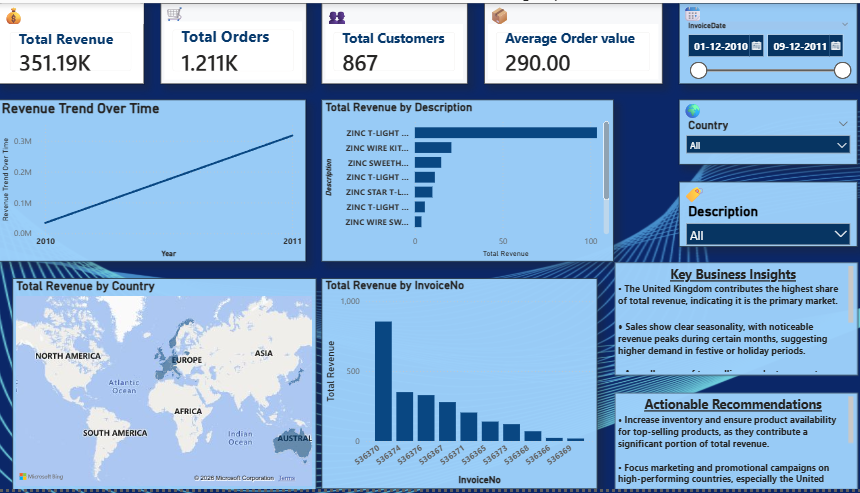

Layout of this report page (visuals, bound fields, positions):
{"tool":"powerbi","page":{"name":"Sales Performance Dashboard","canvas":[1280,720],"ordinal":0},"visuals":[{"type":"cardVisual","fields":{"Data":["online_retail.Total Revenue"]},"box":[48,0,208,112],"z":0},{"type":"cardVisual","fields":{"Data":["online_retail.Total Orders"]},"box":[272,0,192,112],"z":1000},{"type":"cardVisual","fields":{"Data":["online_retail.Total Customers"]},"box":[496,0,192,112],"z":2000},{"type":"cardVisual","fields":{"Data":["online_retail.Average Order value"]},"box":[704,0,208,112],"z":3000},{"type":"lineChart","title":"Revenue Trend Over Time","fields":{"Y":["online_retail.Total Revenue"],"Category":["online_retail.InvoiceDate.Variation.Date Hierarchy.Year","online_retail.InvoiceDate.Variation.Date Hierarchy.Quarter","online_retail.InvoiceDate.Variation.Date Hierarchy.Month","online_retail.InvoiceDate.Variation.Date Hierarchy.Day"]},"box":[22.9,131.4,448.6,254.3],"z":4000},{"type":"clusteredBarChart","fields":{"Category":["online_retail.Description"],"Y":["online_retail.Total Revenue"]},"box":[483,133.3,421.2,254.6],"z":5000},{"type":"filledMap","fields":{"Category":["online_retail.Country"]},"box":[21.4,406.9,449.7,314.1],"z":6000},{"type":"slicer","title":"📅","fields":{"Values":["online_retail.InvoiceDate","online_retail.Country"]},"box":[972.7,0,275,145.5],"z":7000},{"type":"slicer","title":"🏷️","fields":{"Values":["online_retail.Description"]},"box":[972.4,212.1,274.1,123.9],"z":8000},{"type":"textbox","box":[493.3,407.5,402.8,312.2],"z":9000},{"type":"textbox","box":[915.2,407.5,355.1,312.2],"z":10000}]}

Visuals, with their boxes in screenshot pixels (x1, y1, x2, y2), scaled from the page's 1280x720 canvas onto the 860x493 screenshot:
cardVisual - online_retail.Total Revenue: (left=32, top=0, right=172, bottom=77)
cardVisual - online_retail.Total Orders: (left=183, top=0, right=312, bottom=77)
cardVisual - online_retail.Total Customers: (left=333, top=0, right=462, bottom=77)
cardVisual - online_retail.Average Order value: (left=473, top=0, right=613, bottom=77)
"Revenue Trend Over Time" lineChart: (left=15, top=90, right=317, bottom=264)
clusteredBarChart - online_retail.Description x online_retail.Total Revenue: (left=325, top=91, right=608, bottom=266)
filledMap - online_retail.Country: (left=14, top=279, right=317, bottom=492)
"📅" slicer: (left=654, top=0, right=838, bottom=100)
"🏷️" slicer: (left=653, top=145, right=837, bottom=230)
textbox: (left=331, top=279, right=602, bottom=492)
textbox: (left=615, top=279, right=853, bottom=492)
